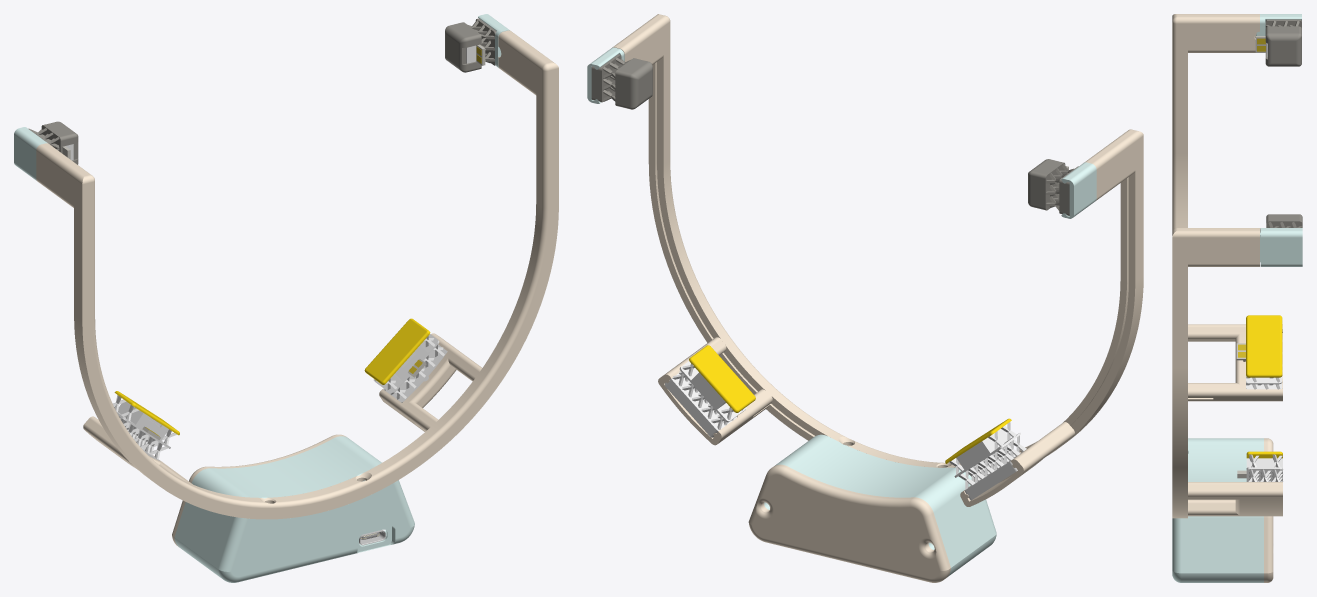
File: haptic-headset.glb
3 renders of one model, left to right at view 1: azimuth 30°, elevation 25°; view 2: azimuth 150°, elevation 25°; view 3: azimuth 270°, elevation 25°, orthographic. The views are drawn at different scales.
Visible parts, largest first — view 1: Part 2, Part 1, Part 4, Part 6, Part 3, Part 22, Part 17 (×2), Part 8, Part 12, Part 7, Part 9; view 2: Part 2, Part 9, Part 1, Part 3, Part 22, Part 16 (×2), Part 6, Part 17 (×2), Part 4, Part 11 (×2), Part 7, Part 8 (+1 smaller); view 3: Part 1, Part 2, Part 4, Part 3, Part 6, Part 7, Part 22 (×2), Part 5, Part 12, Part 9, Part 17 (×2), Part 11 (×2) (+2 smaller).
Part boxes in pixels (x1,y1,x2,y2): Part 2: (74,99,558,519); Part 1: (174,436,414,582); Part 4: (498,30,558,103); Part 6: (379,333,481,431); Part 3: (36,143,94,217); Part 22: (364,318,430,384); Part 17 (×2): (116,334,439,448); Part 8: (14,127,47,180); Part 12: (445,25,467,72); Part 7: (83,416,192,484); Part 9: (172,434,346,546); Part 2: (648,55,1143,481); Part 9: (748,464,950,582); Part 1: (764,434,996,577); Part 3: (1084,129,1143,200); Part 22: (689,345,755,412); Part 16 (×2): (664,373,1022,500); Part 6: (658,337,772,445); Part 17 (×2): (679,361,1020,477); Part 4: (612,14,670,64); Part 11 (×2): (615,58,1065,210); Part 7: (960,422,1074,506); Part 8: (1061,162,1096,218); Part 1: (1172,438,1263,582); Part 2: (1172,53,1187,518); Part 4: (1172,228,1259,268); Part 3: (1172,14,1259,54); Part 6: (1188,482,1282,516); Part 7: (1188,324,1282,401); Part 22 (×2): (1246,315,1282,458); Part 5: (1260,228,1302,266); Part 12: (1265,33,1301,66); Part 9: (1264,438,1273,582); Part 17 (×2): (1246,376,1282,481); Part 11 (×2): (1265,26,1302,227).
Bounding box in the file's own units: 0.165 × 0.147 × 0.0412.
